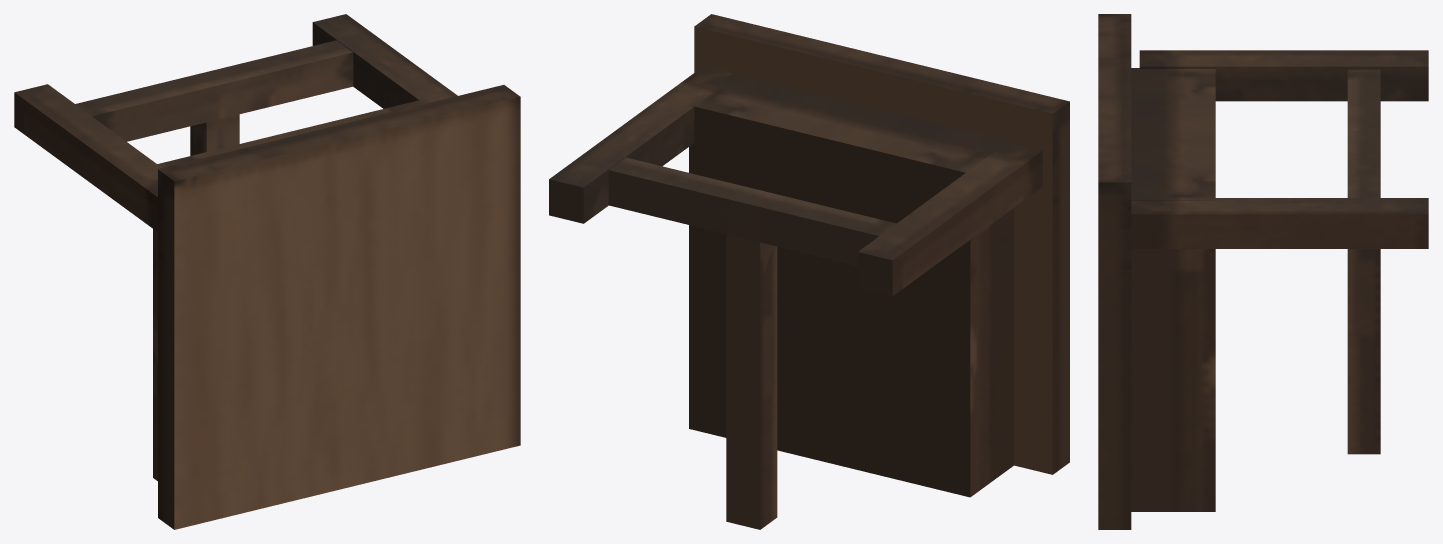
Rendered from section-3.obj.
3 views of the same model, side by side, from view 1: azimuth 30°, elevation 25°; view 2: azimuth 150°, elevation 25°; view 3: azimuth 270°, elevation 25° (orthographic). The views are drawn at different scales.
Size of the model in its own units: 0.963 by 0.9266 by 0.7978.
Materials: 1 (1 with a texture image).
